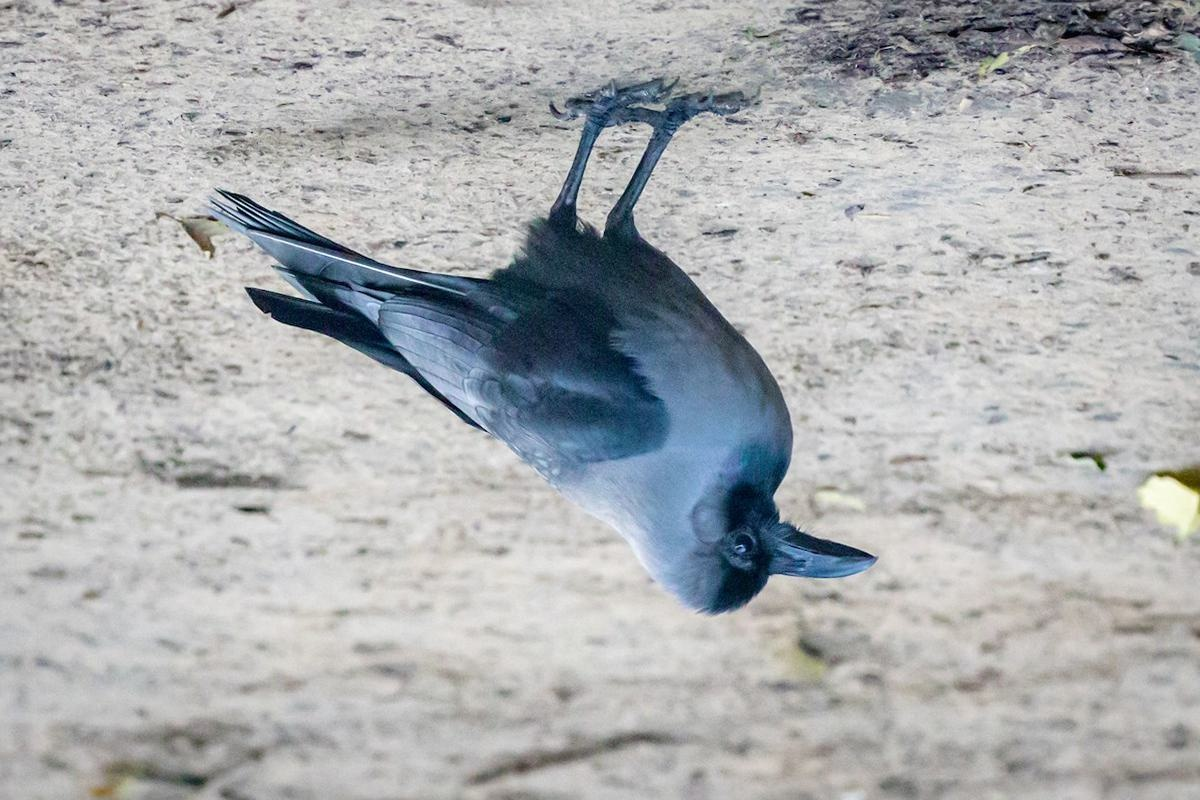crow: (230, 146, 891, 621)
